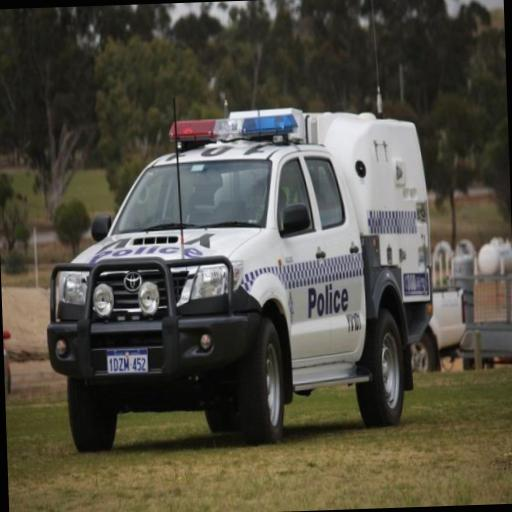Ambulance: (41, 101, 442, 454)
